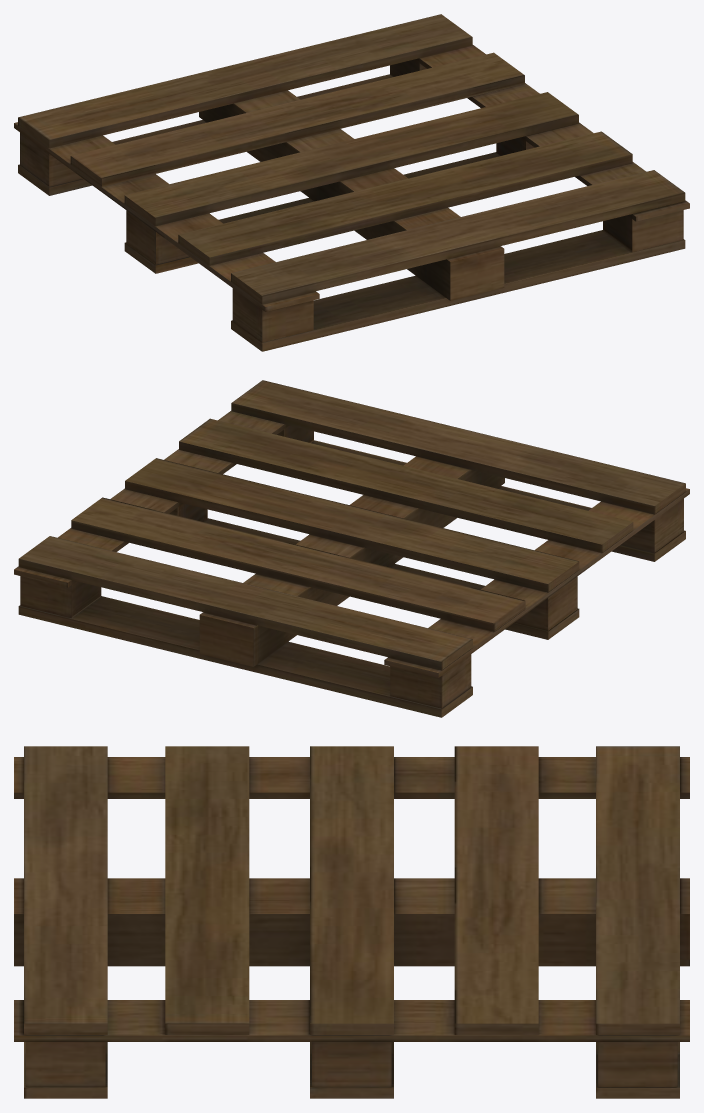
Rendered from pallet.glb.
The picture shows the model from 3 angles, top to bottom: view 1: azimuth 30°, elevation 25°; view 2: azimuth 150°, elevation 25°; view 3: azimuth 270°, elevation 25°; orthographic projection. The views are drawn at different scales.
Parts seen in each view (by area): view 1: pallet; view 2: pallet; view 3: pallet.
Part boxes in pixels (x1,y1,x2,y2): pallet: (14,14,689,351); pallet: (14,380,689,717); pallet: (14,746,689,1098).
Bounding box in the file's own units: 1.24 × 0.156 × 1.27.
Materials: 1 (1 with a texture image).
